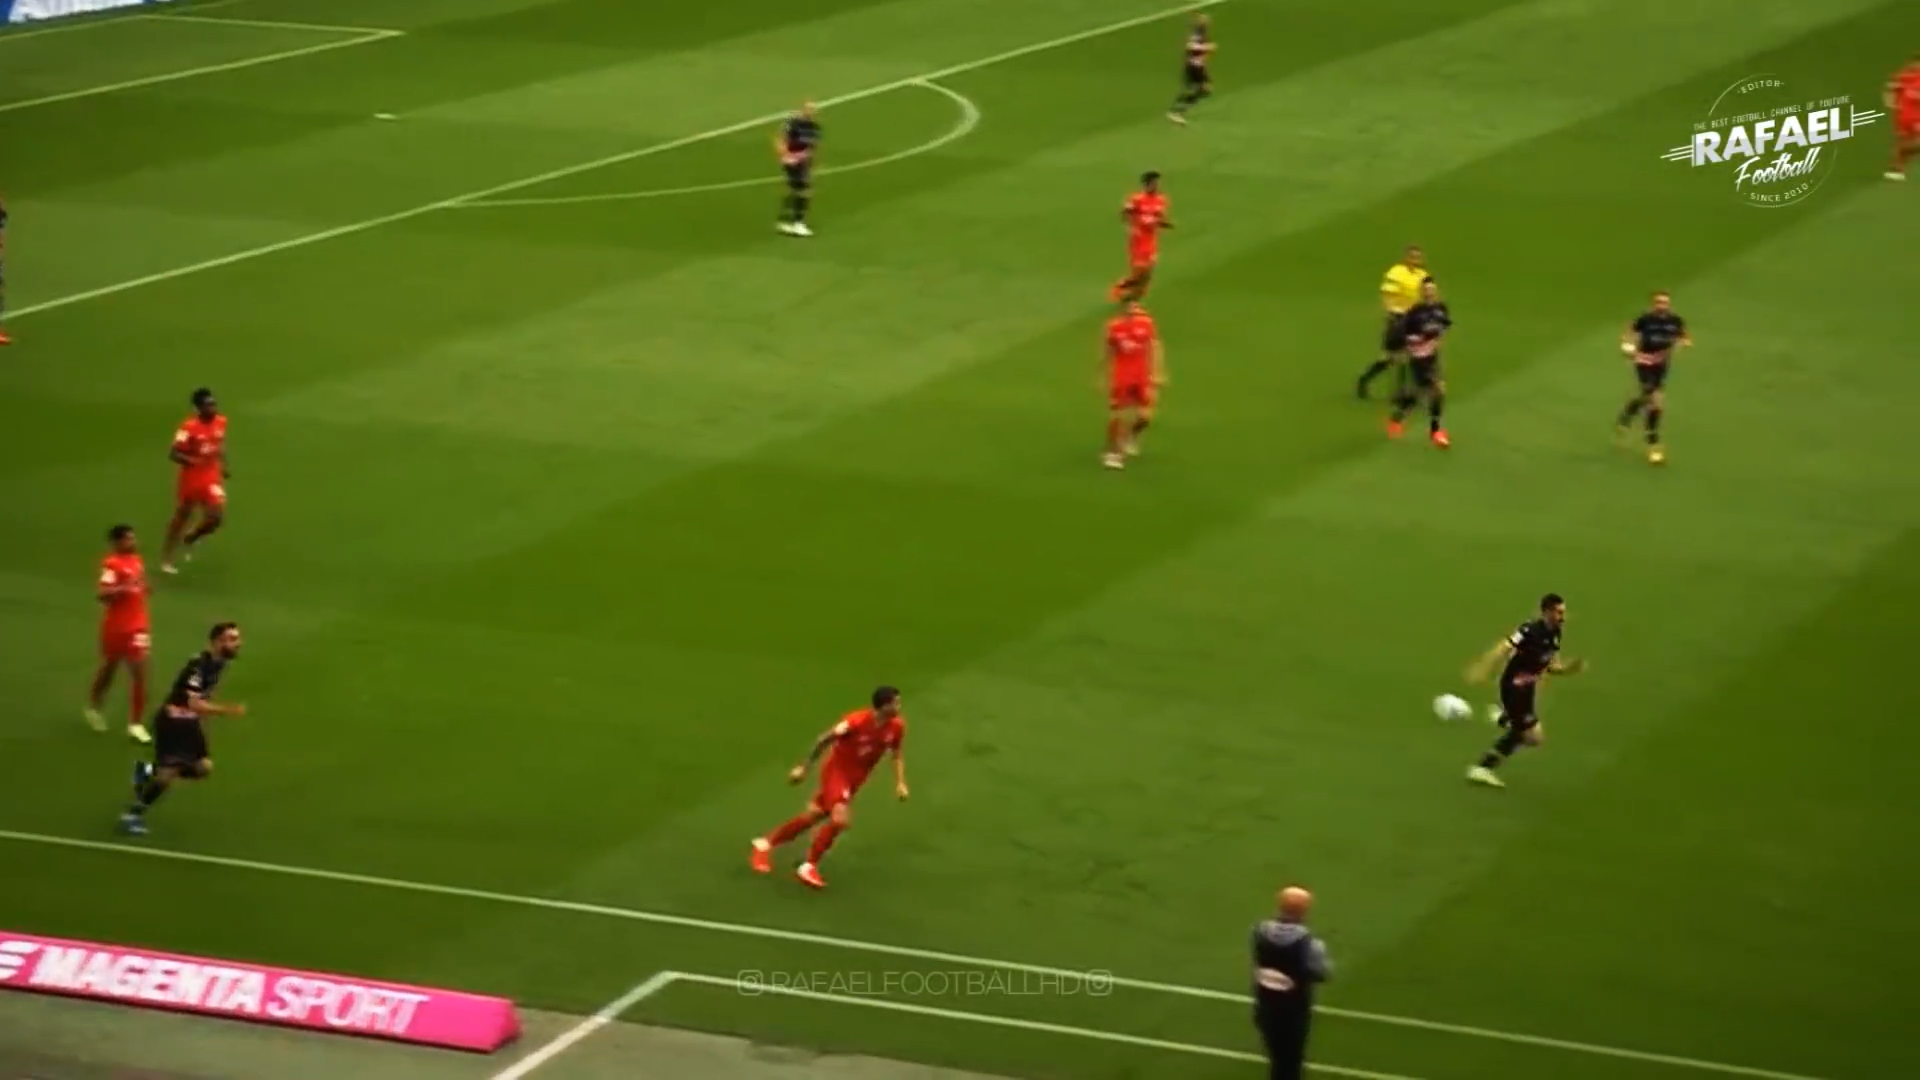ft: (1429, 690, 1473, 728)
